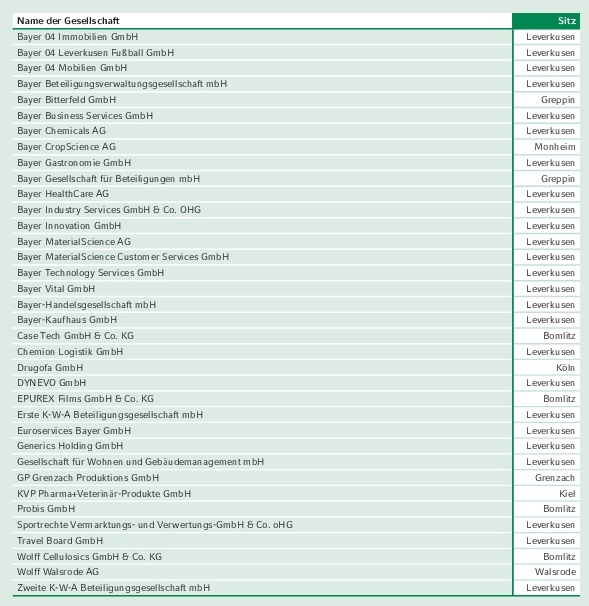table: (0, 0, 589, 606)
